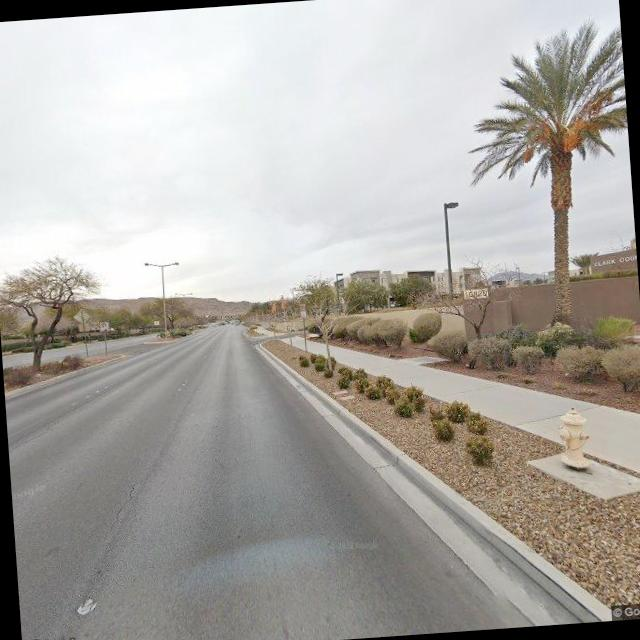pothole: (102, 474, 144, 531)
